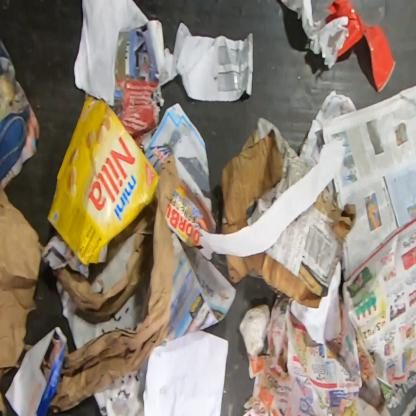cardboard: (46, 92, 162, 266), (190, 136, 347, 260), (226, 189, 356, 308), (221, 116, 314, 235)
rigid_plastic: (323, 0, 397, 95)
